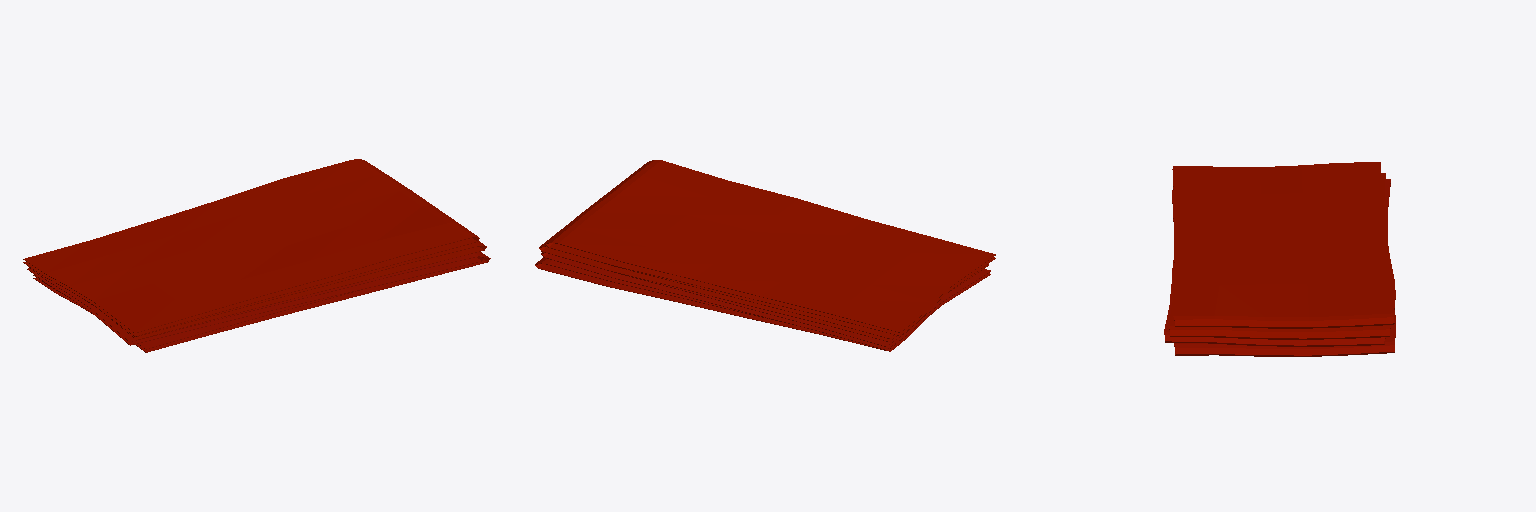
3 views of the same model, side by side, from view 1: azimuth 30°, elevation 25°; view 2: azimuth 150°, elevation 25°; view 3: azimuth 270°, elevation 25° (orthographic).
Visible parts, largest first — view 1: 绝缘毯; view 2: 绝缘毯; view 3: 绝缘毯.
Boxes of the visible parts, <box> form: 绝缘毯: <box>23,159,490,352</box>; 绝缘毯: <box>535,160,995,351</box>; 绝缘毯: <box>1164,162,1395,356</box>.
Bounding box in the file's own units: 3.4 × 0.317 × 1.87.